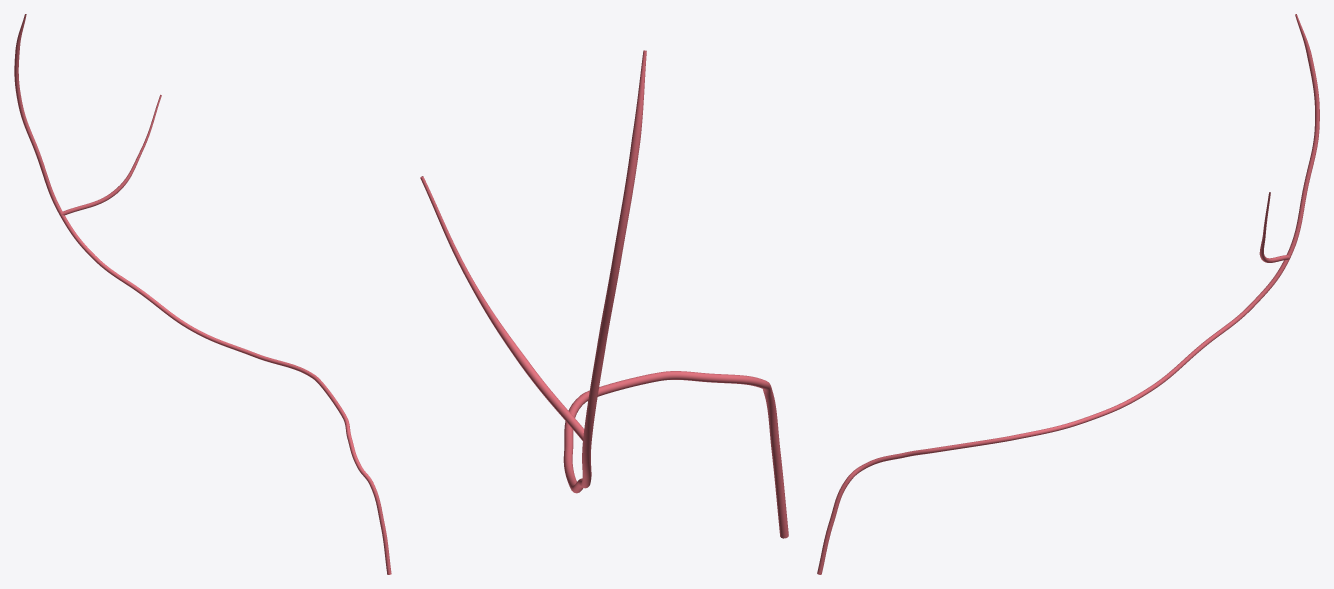
3 views of the same model, side by side, from view 1: azimuth 30°, elevation 25°; view 2: azimuth 150°, elevation 25°; view 3: azimuth 270°, elevation 25° (orthographic). The views are drawn at different scales.
Parts seen in each view (by area): view 1: ZA_3404d889f1747bb1; view 2: ZA_3404d889f1747bb1; view 3: ZA_3404d889f1747bb1.
Part boxes in pixels (bbox=[...]): ZA_3404d889f1747bb1: bbox=[14, 14, 391, 574]; ZA_3404d889f1747bb1: bbox=[420, 50, 788, 538]; ZA_3404d889f1747bb1: bbox=[817, 14, 1319, 574].
Bounding box in the file's own units: 0.043 × 0.1085 × 0.1027.
